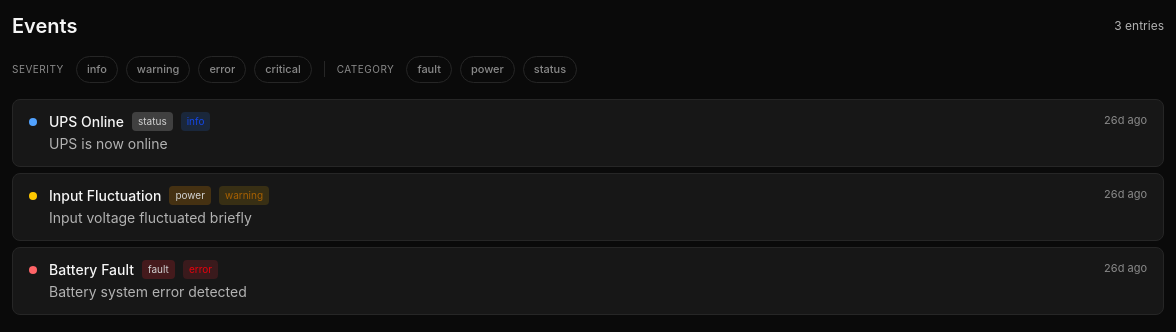
Scenario: Events › filters by severity
This screenshot has width=1176, height=332.
Expected: the text "UPS Online" is shown, [49,112,124,132]
Click the button "error". click: (222, 69)
box: [198,56,246,82]
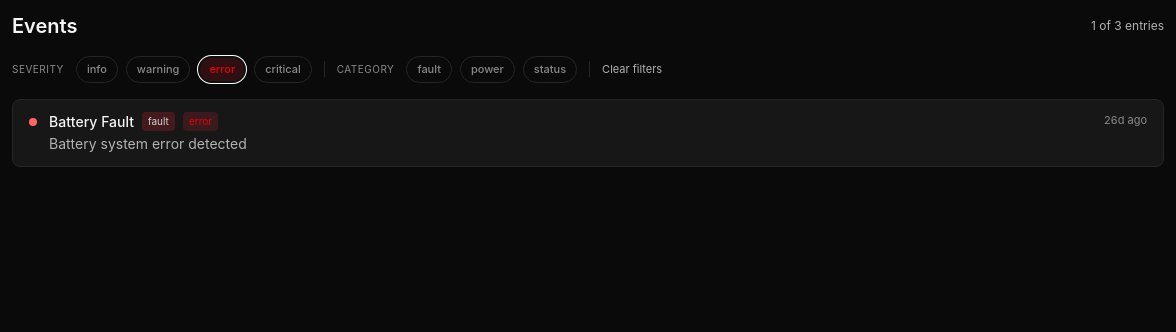
Expected: the text "UPS Online" is gone
Expected: the text "Battery Fault" is shown, [49,112,134,132]
Expected: the text "Input Fluctuation" is gone
